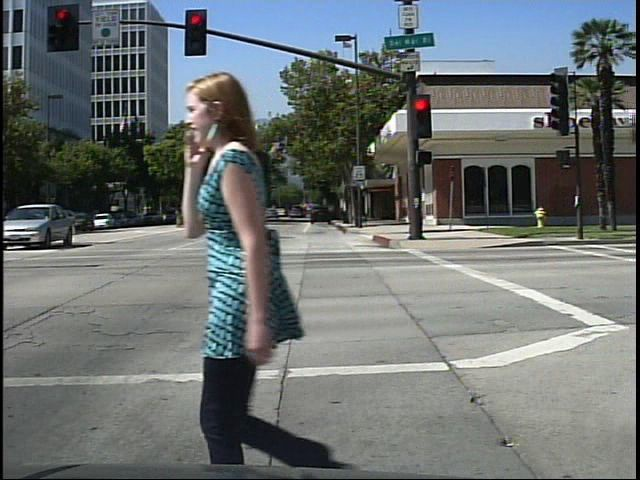person: (181, 71, 370, 473)
